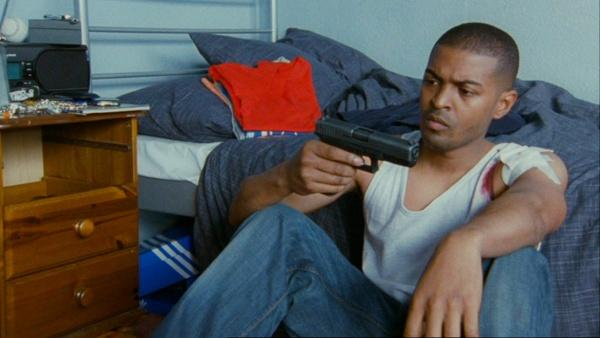Gun: (315, 116, 419, 172)
